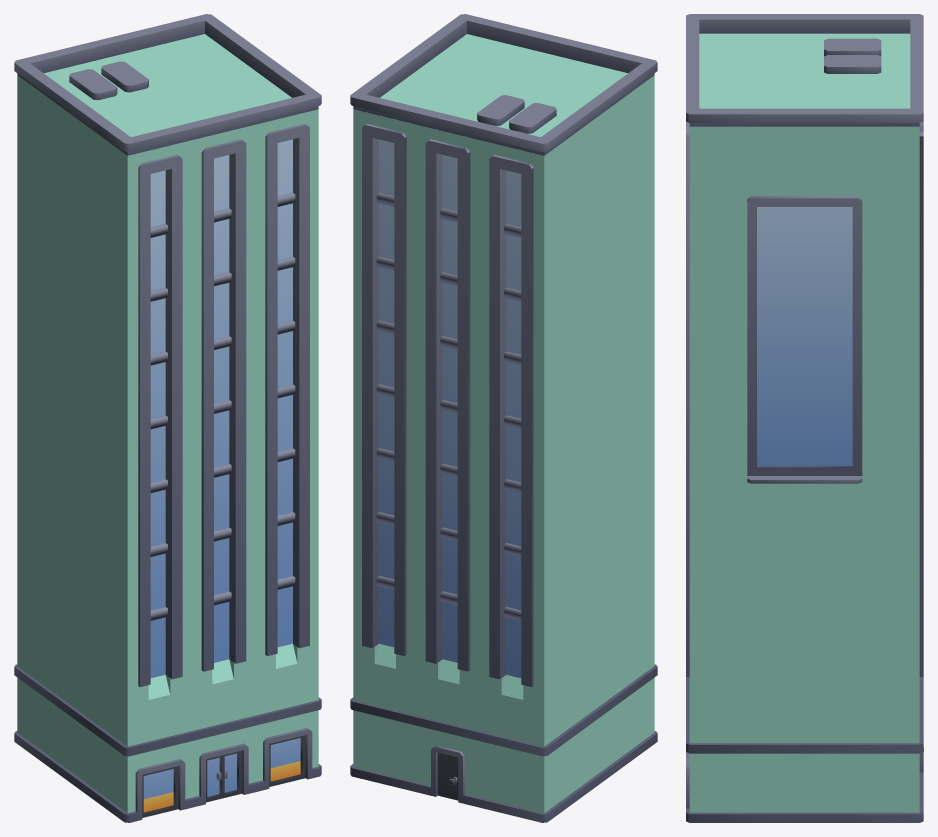
Rendered from skyscraperB1.glb.
The picture shows the model from 3 angles, left to right: view 1: azimuth 30°, elevation 25°; view 2: azimuth 150°, elevation 25°; view 3: azimuth 270°, elevation 25°; orthographic projection. The views are drawn at different scales.
Visible parts, largest first — view 1: skyscraperB1; view 2: skyscraperB1; view 3: skyscraperB1.
Boxes of the visible parts, left/top/right/bottom form: skyscraperB1: left=14, top=14, right=321, bottom=822; skyscraperB1: left=350, top=14, right=657, bottom=822; skyscraperB1: left=686, top=14, right=923, bottom=822.
Size of the model in its own units: 1.29 by 4.08 by 1.24.
Materials: 2 (1 with a texture image).
